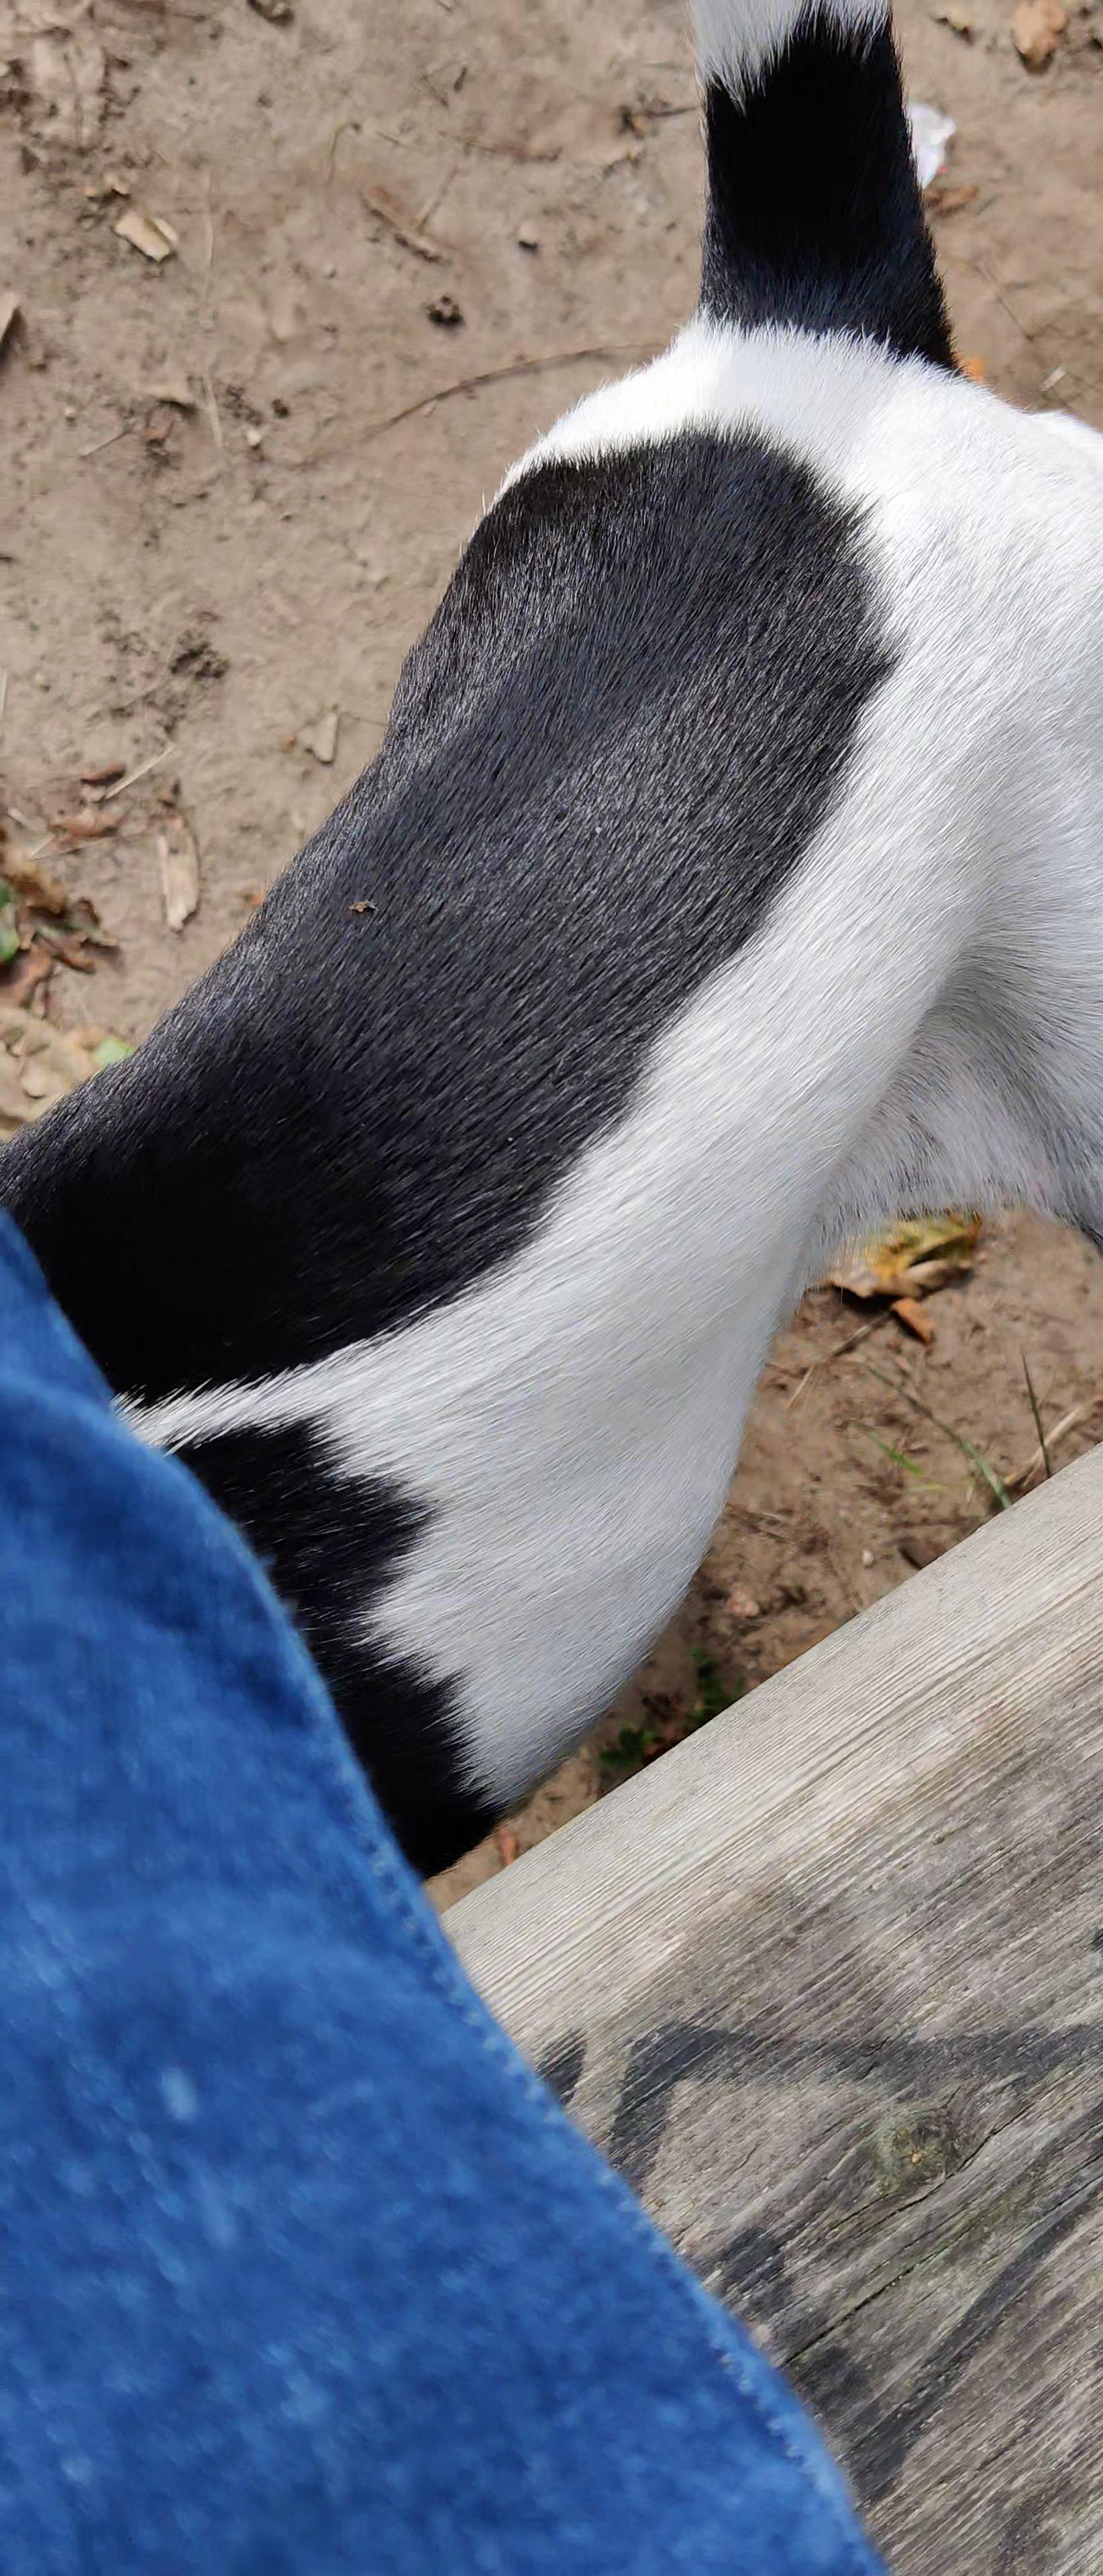Dog: (0, 0, 1103, 1896)
